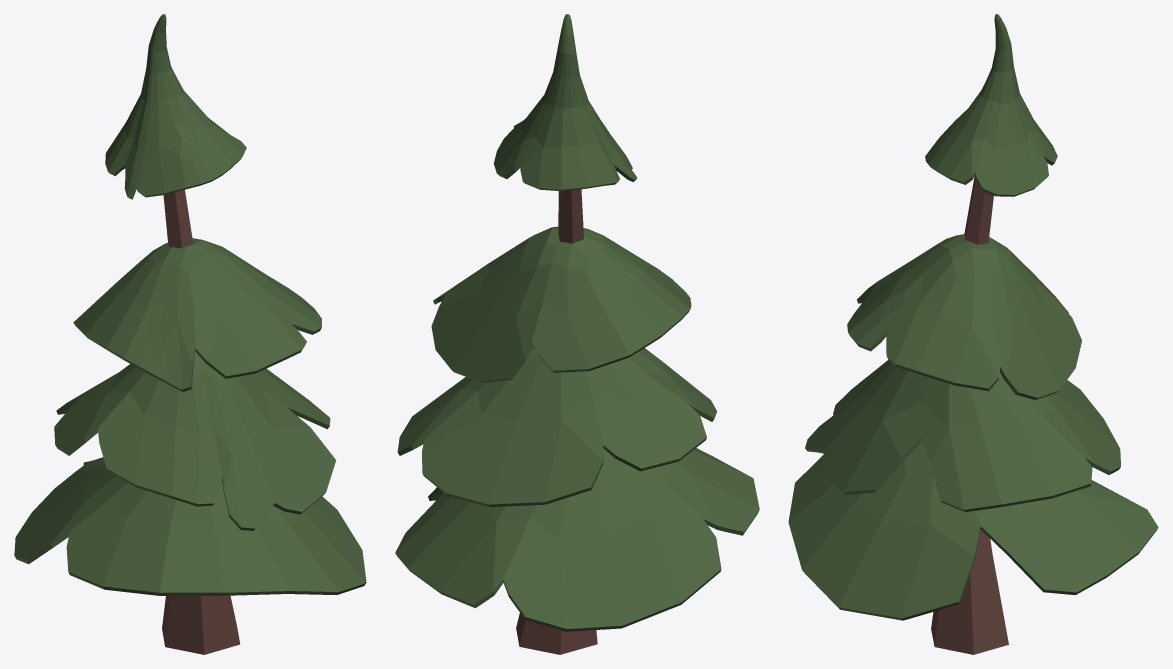
The model's file is PineTree_2.gltf.
3 views of the same model, side by side, from view 1: azimuth 30°, elevation 25°; view 2: azimuth 150°, elevation 25°; view 3: azimuth 270°, elevation 25° (orthographic). The views are drawn at different scales.
Visible parts, largest first — view 1: PineTree_2; view 2: PineTree_2; view 3: PineTree_2.
Boxes of the visible parts, box(x1,y1,x2,y2) form: PineTree_2: box(14, 14, 366, 654); PineTree_2: box(395, 14, 759, 654); PineTree_2: box(788, 14, 1158, 654).
Size of the model in its own units: 1.8 by 3.56 by 1.96.
